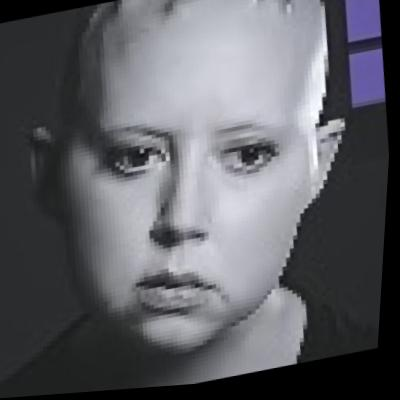sad: (38, 0, 336, 369)
